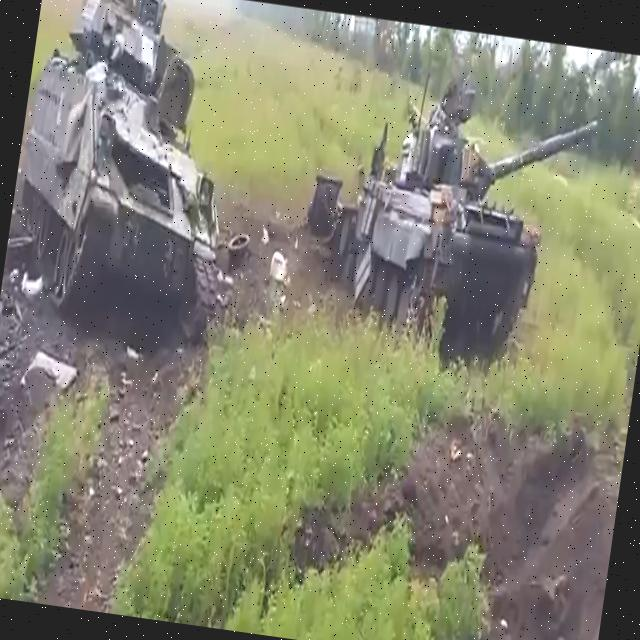AIFV: (4, 1, 254, 335)
MBT: (313, 71, 605, 384)
